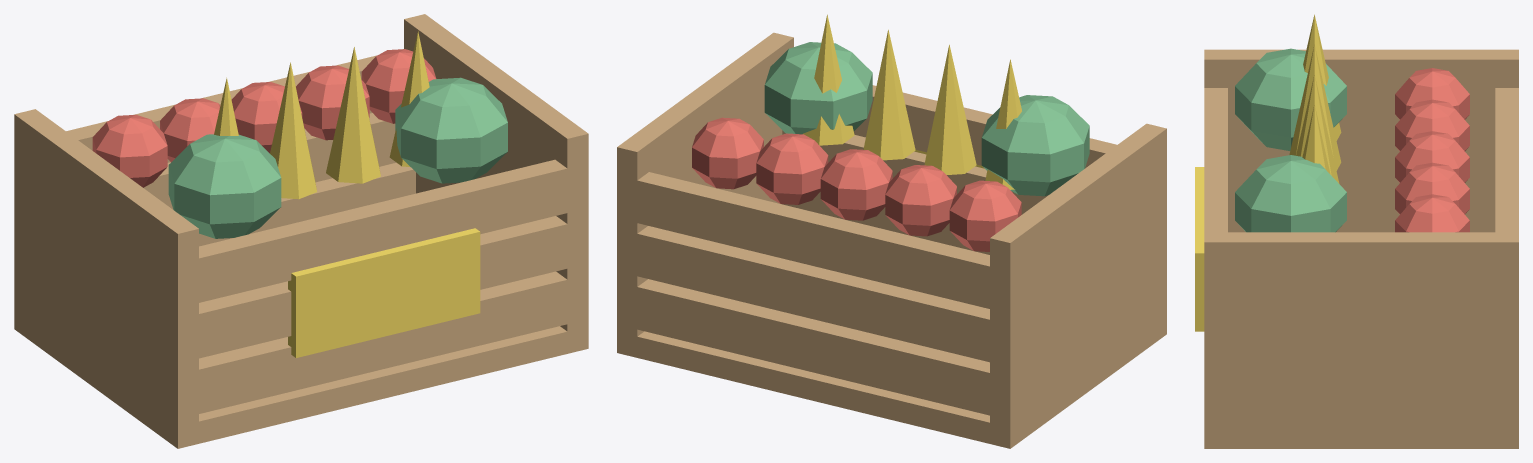
Rendered from produce.glb.
3 views of the same model, side by side, from view 1: azimuth 30°, elevation 25°; view 2: azimuth 150°, elevation 25°; view 3: azimuth 270°, elevation 25° (orthographic). The views are drawn at different scales.
Visible parts, largest first — view 1: fruit-and-veg-crate-timber, fruit-and-veg-crate-canary, fruit-and-veg-crate-leaf, fruit-and-veg-crate-scarlet; view 2: fruit-and-veg-crate-timber, fruit-and-veg-crate-scarlet, fruit-and-veg-crate-leaf, fruit-and-veg-crate-canary; view 3: fruit-and-veg-crate-timber, fruit-and-veg-crate-leaf, fruit-and-veg-crate-scarlet, fruit-and-veg-crate-canary.
Boxes of the visible parts, x1,y1,x2,y2 form: fruit-and-veg-crate-timber: (14, 14, 588, 448); fruit-and-veg-crate-canary: (214, 31, 480, 357); fruit-and-veg-crate-leaf: (168, 77, 507, 238); fruit-and-veg-crate-scarlet: (92, 49, 436, 187); fruit-and-veg-crate-timber: (617, 32, 1166, 448); fruit-and-veg-crate-scarlet: (692, 117, 1021, 251); fruit-and-veg-crate-leaf: (764, 42, 1089, 196); fruit-and-veg-crate-canary: (803, 14, 1021, 189); fruit-and-veg-crate-timber: (1204, 49, 1518, 448); fruit-and-veg-crate-leaf: (1235, 48, 1346, 232); fruit-and-veg-crate-scarlet: (1395, 68, 1469, 232); fruit-and-veg-crate-canary: (1195, 14, 1341, 331).
Bounding box in the file's own units: 0.58 × 0.41 × 0.412.
